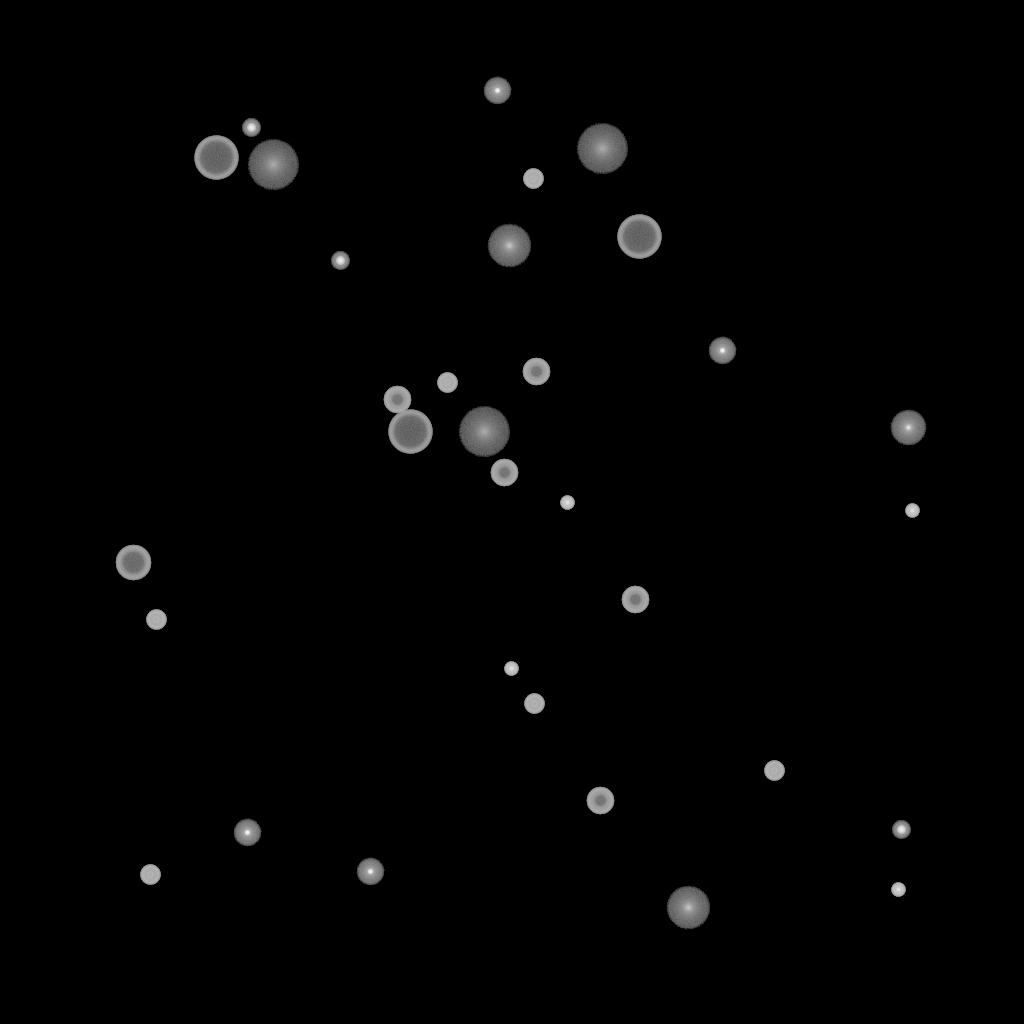depth:-10: (356, 858, 384, 886), (708, 337, 736, 365), (483, 77, 511, 105), (233, 819, 261, 847)
depth:-20: (242, 119, 260, 137), (892, 821, 910, 839), (331, 252, 349, 270)
depth:-30: (905, 504, 919, 518), (504, 662, 518, 676), (560, 496, 574, 510), (891, 883, 905, 897)
depth:-40: (146, 610, 166, 630), (524, 694, 544, 714), (140, 865, 160, 885), (764, 761, 784, 781), (523, 169, 543, 189), (437, 373, 457, 393)
depth:-50: (586, 787, 614, 815), (621, 586, 649, 614), (522, 358, 550, 386), (383, 386, 411, 414), (490, 459, 518, 487)
depth:-60: (115, 545, 151, 581)
depth:-70: (194, 136, 238, 180), (617, 215, 661, 259), (388, 410, 432, 454)
depth:0: (890, 410, 926, 446)
depth:10: (487, 224, 531, 268), (666, 886, 710, 930)
depth:20: (458, 407, 510, 457), (247, 140, 299, 190), (576, 124, 628, 174)
